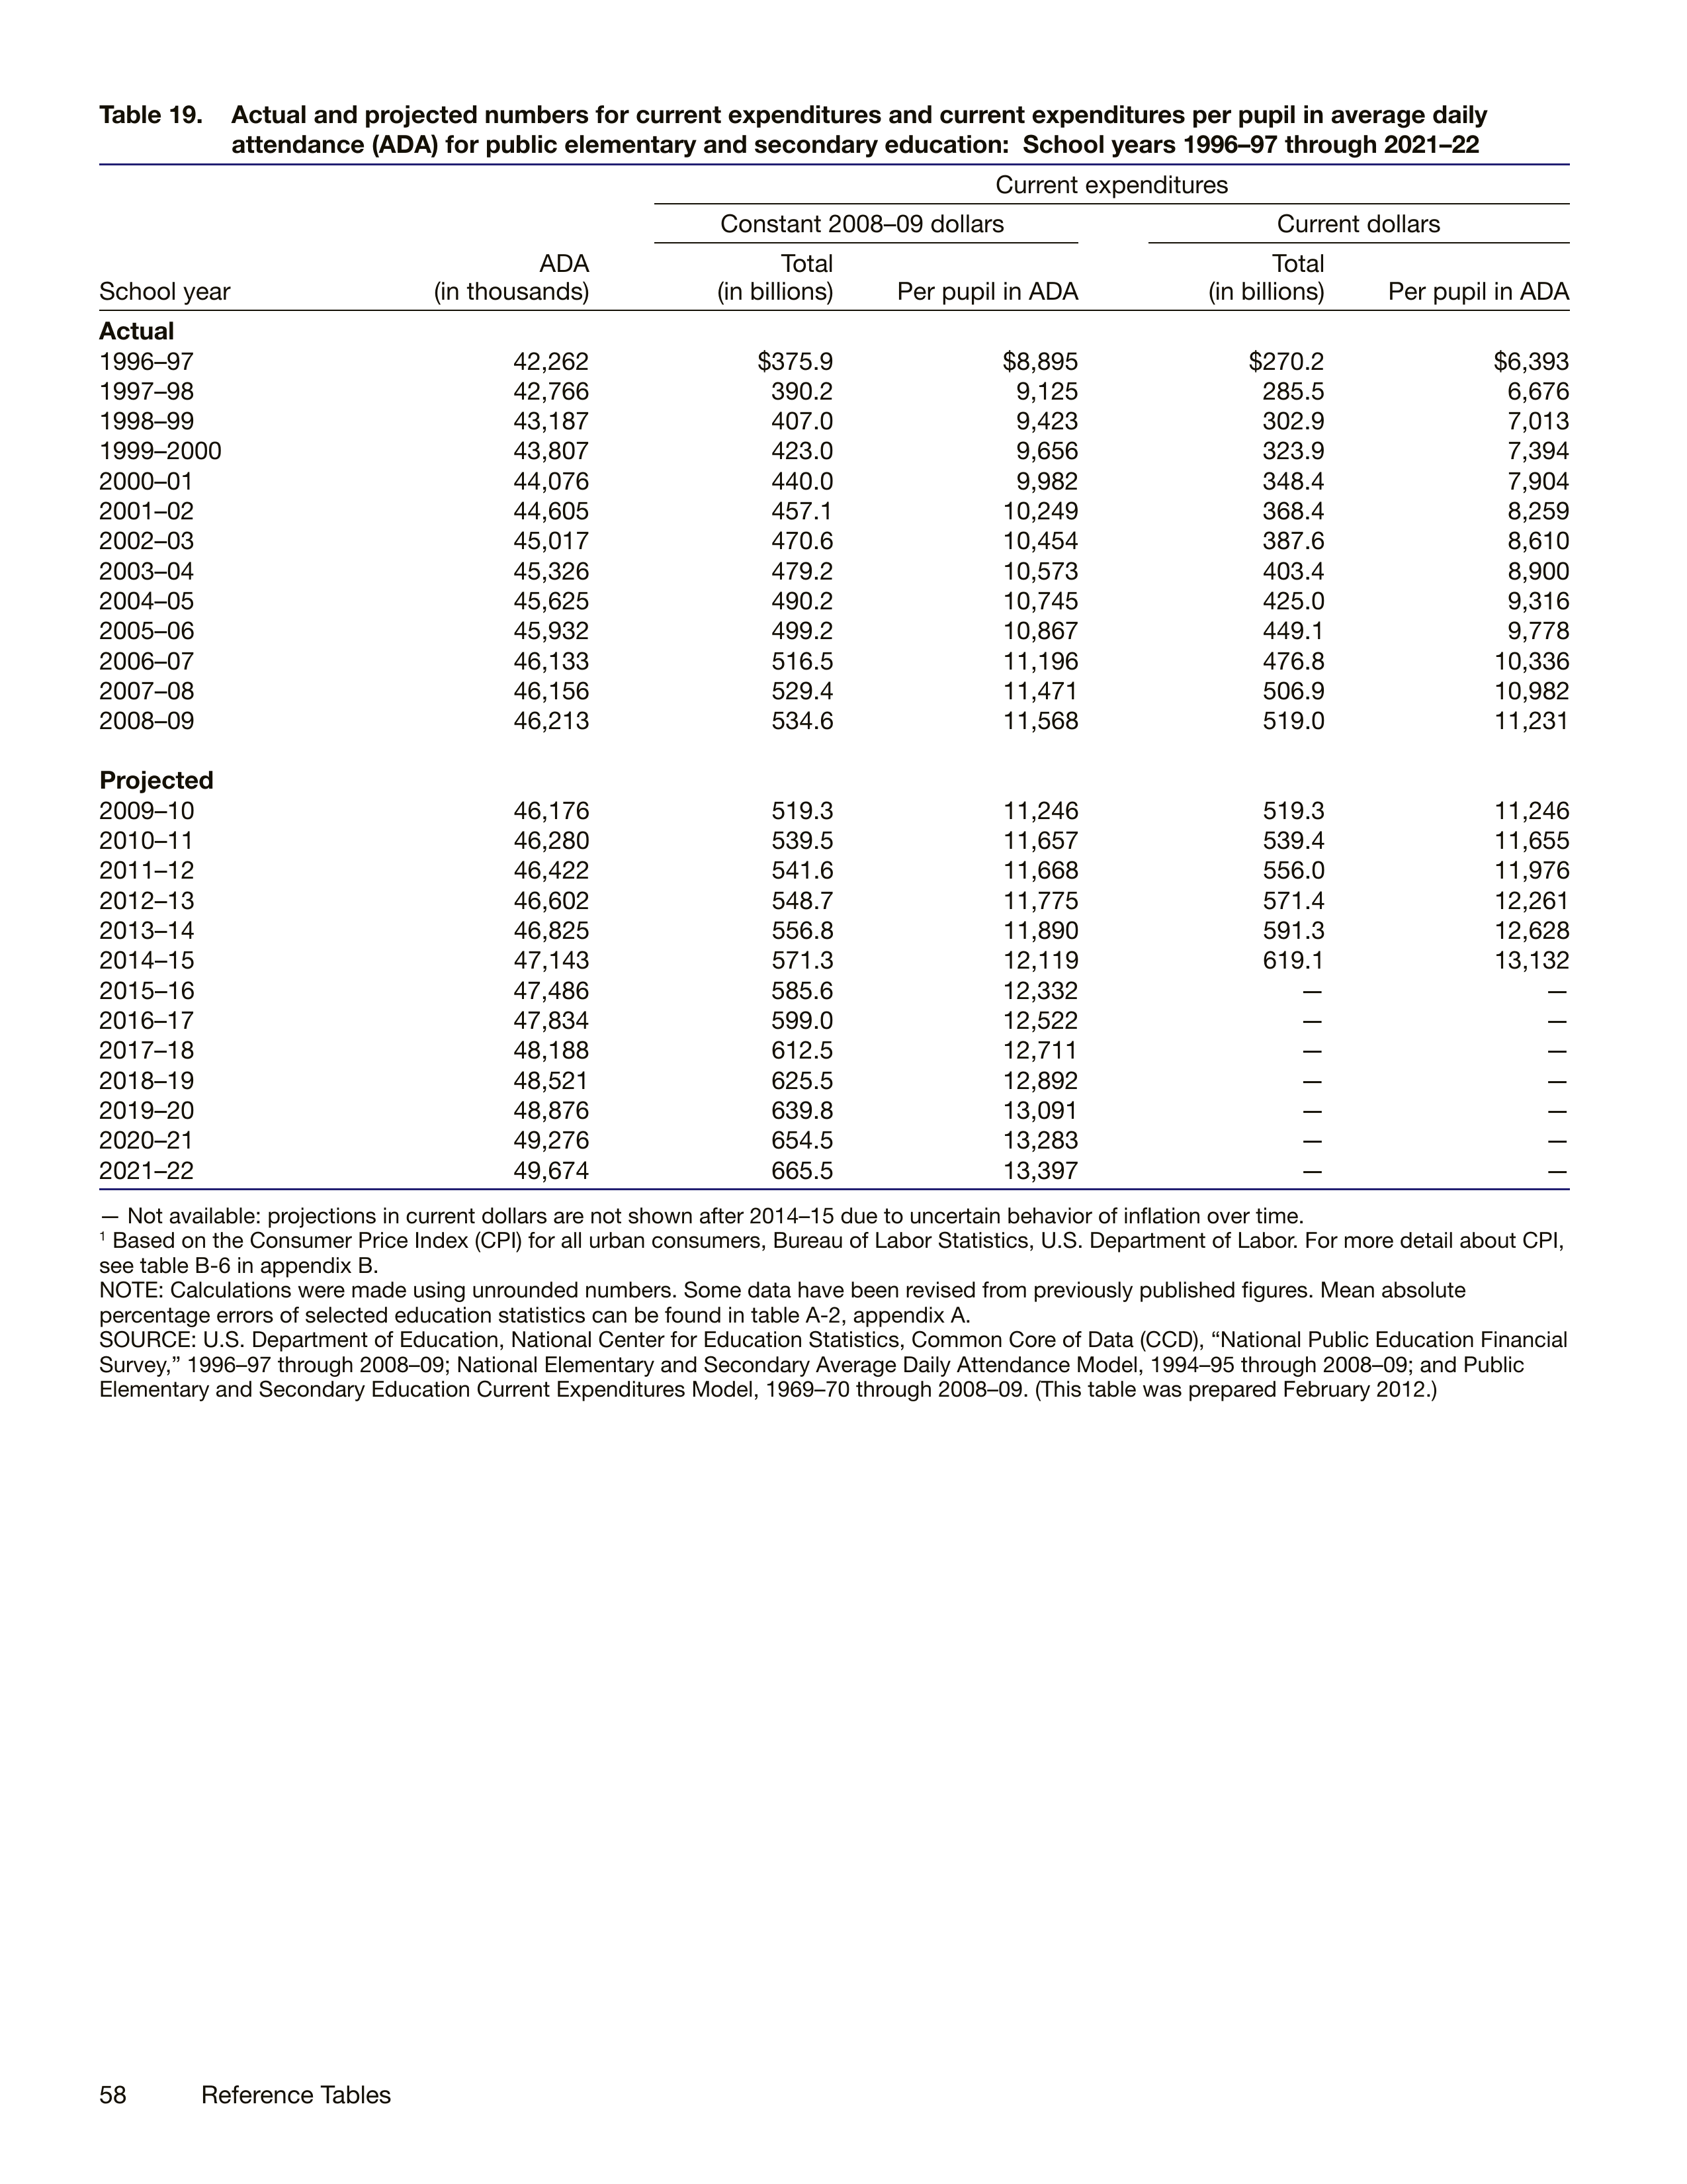table: (82, 159, 1590, 1196)
